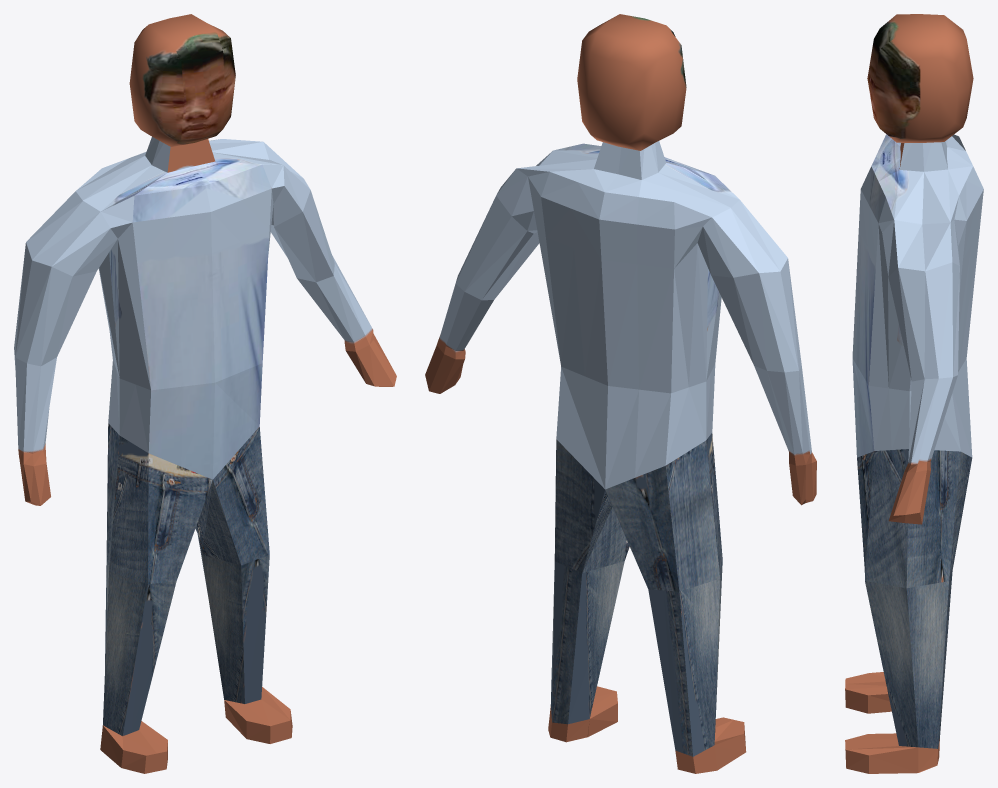
Rendered from AnhThuanBiLaDen.fbx.
3 renders of one model, left to right at view 1: azimuth 30°, elevation 25°; view 2: azimuth 150°, elevation 25°; view 3: azimuth 270°, elevation 25°, orthographic. The views are drawn at different scales.
Visible parts, largest first — view 1: pCube1, pCube2; view 2: pCube1, pCube2; view 3: pCube1, pCube2.
Part boxes in pixels (box(x1,y1,x2,y2)): pCube1: box(14, 137, 396, 773); pCube2: box(129, 14, 235, 146); pCube1: box(425, 141, 816, 773); pCube2: box(577, 14, 686, 150); pCube1: box(845, 134, 983, 773); pCube2: box(867, 14, 973, 142).
Size of the model in its own units: 4.2 by 7.56 by 1.34.
